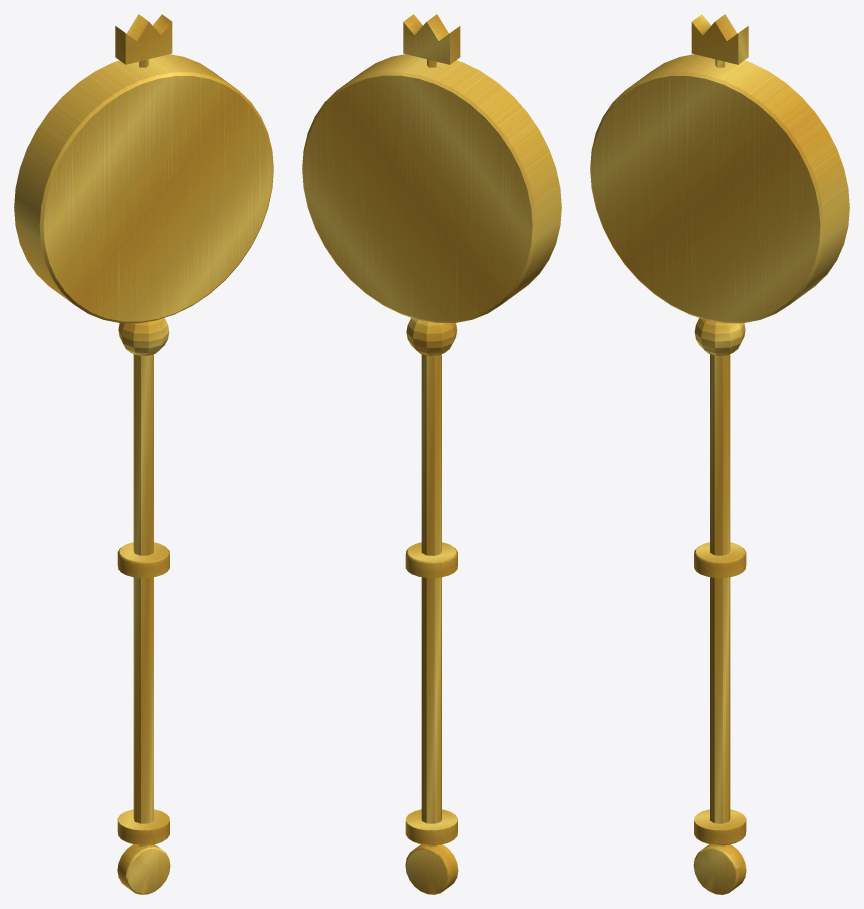
File: scepterfinal.fbx
3 views of the same model, side by side, from view 1: azimuth 30°, elevation 25°; view 2: azimuth 150°, elevation 25°; view 3: azimuth 330°, elevation 25° (orthographic).
Parts seen in each view (by area): view 1: pCylinder3, pCylinder2, pCube1, pCylinder4, pSphere1, pCylinder6, pCylinder5; view 2: pCylinder3, pCylinder2, pCube1, pCylinder4, pSphere1, pCylinder6, pCylinder5; view 3: pCylinder3, pCylinder2, pCube1, pCylinder4, pSphere1, pCylinder6, pCylinder5.
Boxes of the visible parts, <box> form: pCylinder3: <box>14,54,273,323</box>; pCylinder2: <box>133,354,153,823</box>; pCube1: <box>115,14,172,64</box>; pCylinder4: <box>117,844,170,894</box>; pSphere1: <box>118,318,169,356</box>; pCylinder6: <box>117,542,169,577</box>; pCylinder5: <box>117,809,169,845</box>; pCylinder3: <box>302,54,561,322</box>; pCylinder2: <box>421,354,441,823</box>; pCube1: <box>403,14,460,64</box>; pCylinder4: <box>405,844,458,894</box>; pSphere1: <box>406,317,457,356</box>; pCylinder6: <box>405,542,457,577</box>; pCylinder5: <box>405,809,457,845</box>; pCylinder3: <box>590,54,849,323</box>; pCylinder2: <box>710,354,730,823</box>; pCube1: <box>691,14,748,64</box>; pCylinder4: <box>693,844,746,894</box>; pSphere1: <box>694,318,745,356</box>; pCylinder6: <box>694,542,746,577</box>; pCylinder5: <box>694,809,746,845</box>.
Size of the model in its own units: 0.4215 by 1.5 by 0.0882.
9 materials, 9 textured.
